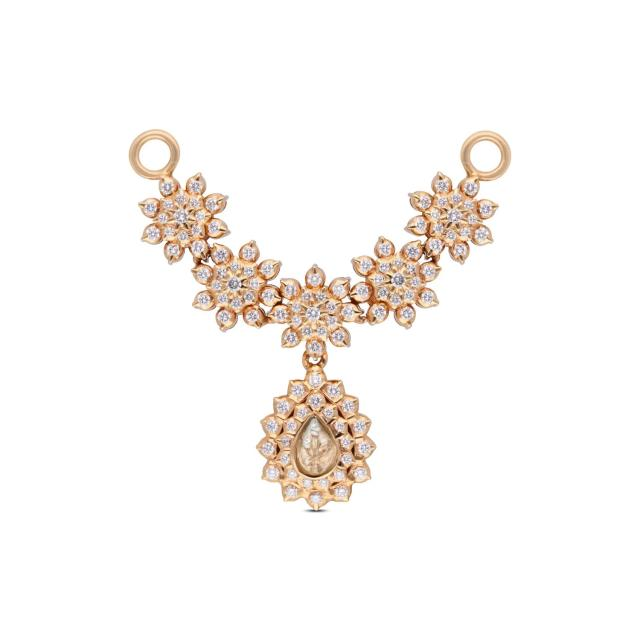missing gem: (293, 413, 339, 478)
